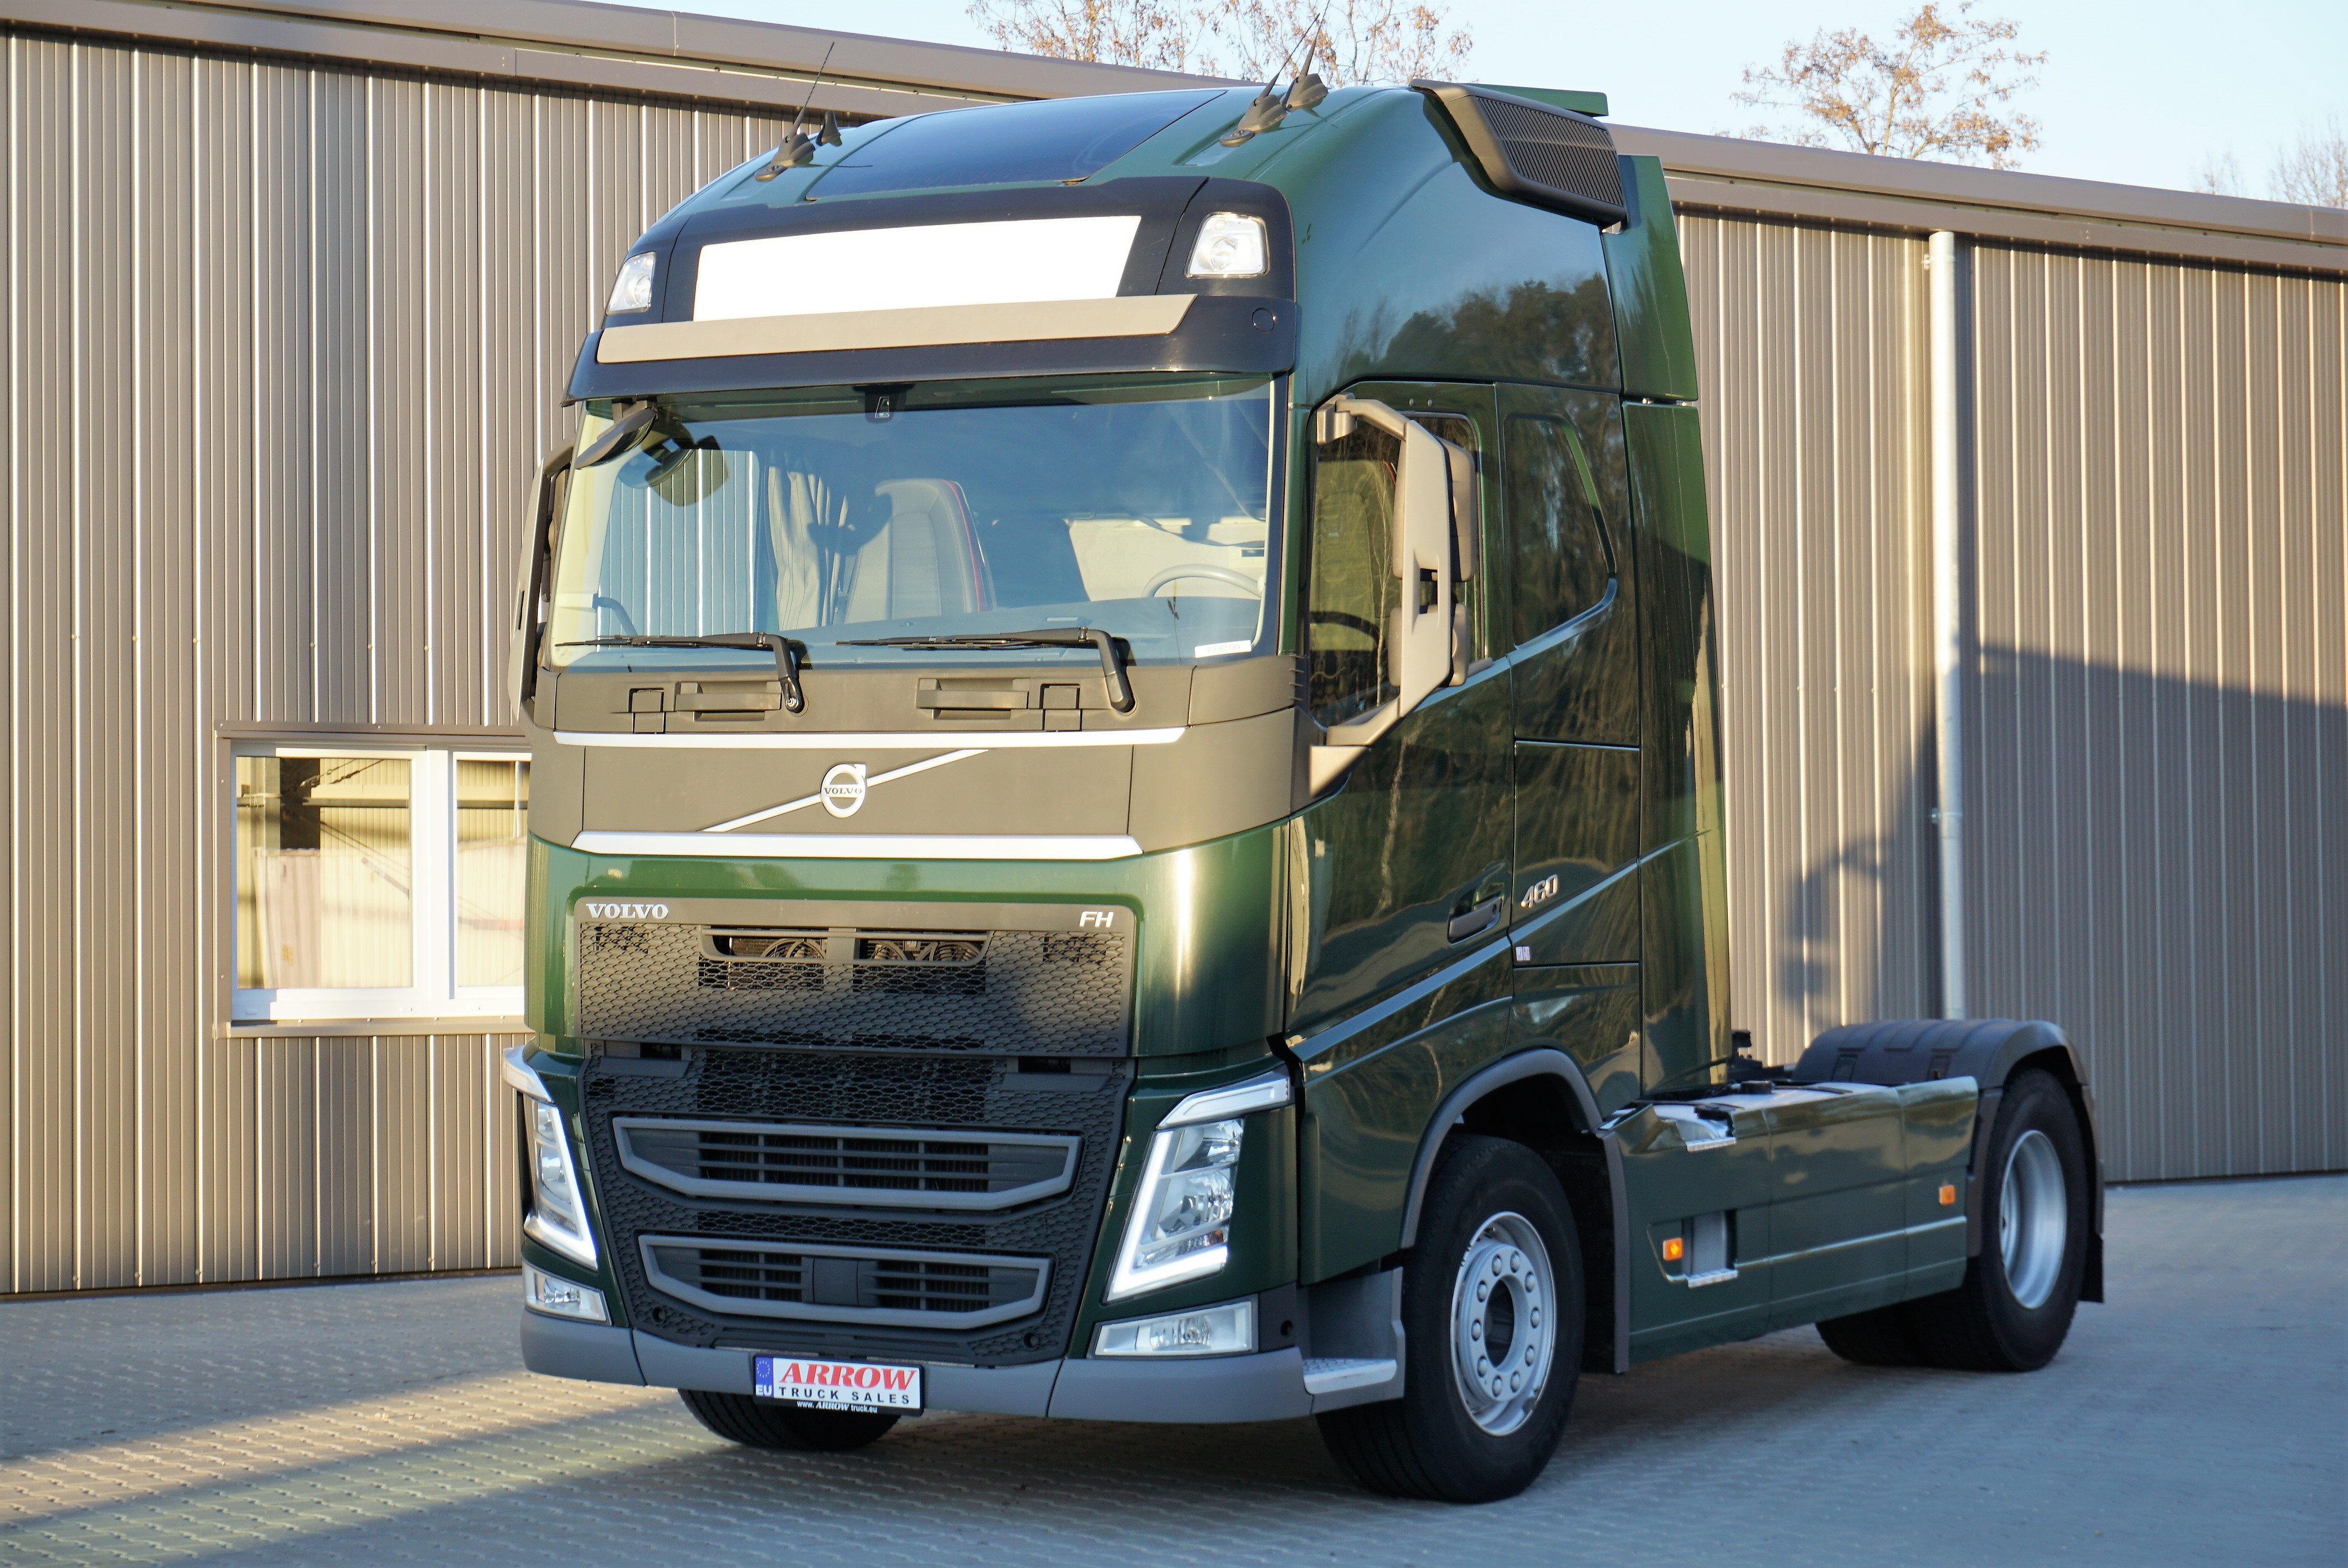Truck: (513, 86, 1778, 1494)
